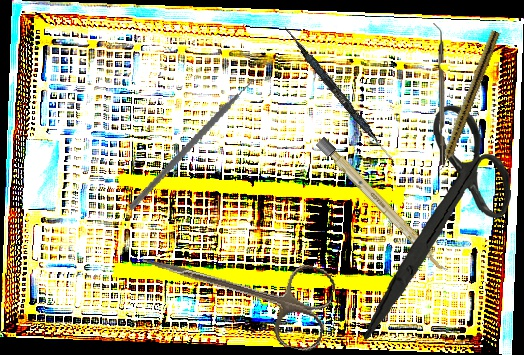Chopper: (127, 55, 272, 233), (433, 23, 445, 165)
Handpiece: (434, 28, 501, 175)
Iris Scissors: (352, 102, 518, 340), (130, 223, 339, 355)
Scalpel Handle: (315, 136, 451, 276)
Spatula Surgical: (279, 25, 401, 167)
